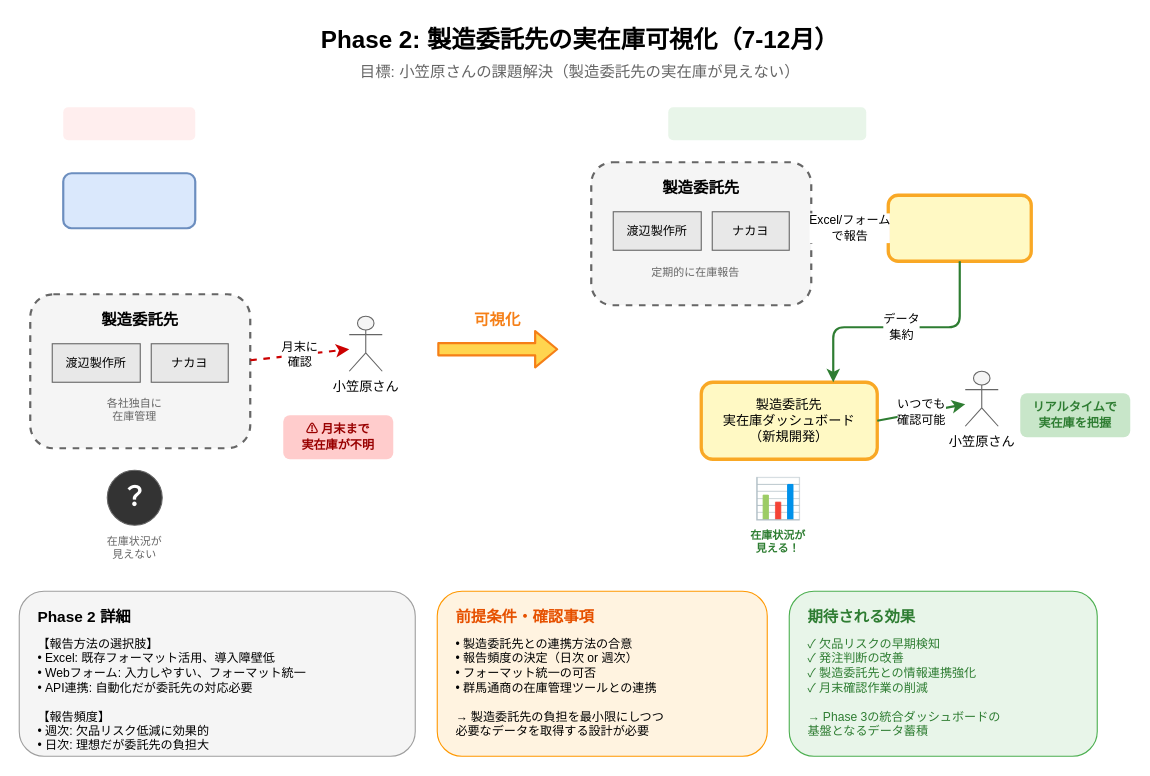
This 1150x776 diagram has some shape labels left out. Each missing label, with the box of its shape:
After（Phase 2完了後）: (668, 107, 866, 140)
Before（現状）: (63, 107, 195, 140)
NTT e-Drone: (62, 172, 196, 229)
在庫報告ツール （新規開発）: (886, 193, 1032, 262)
